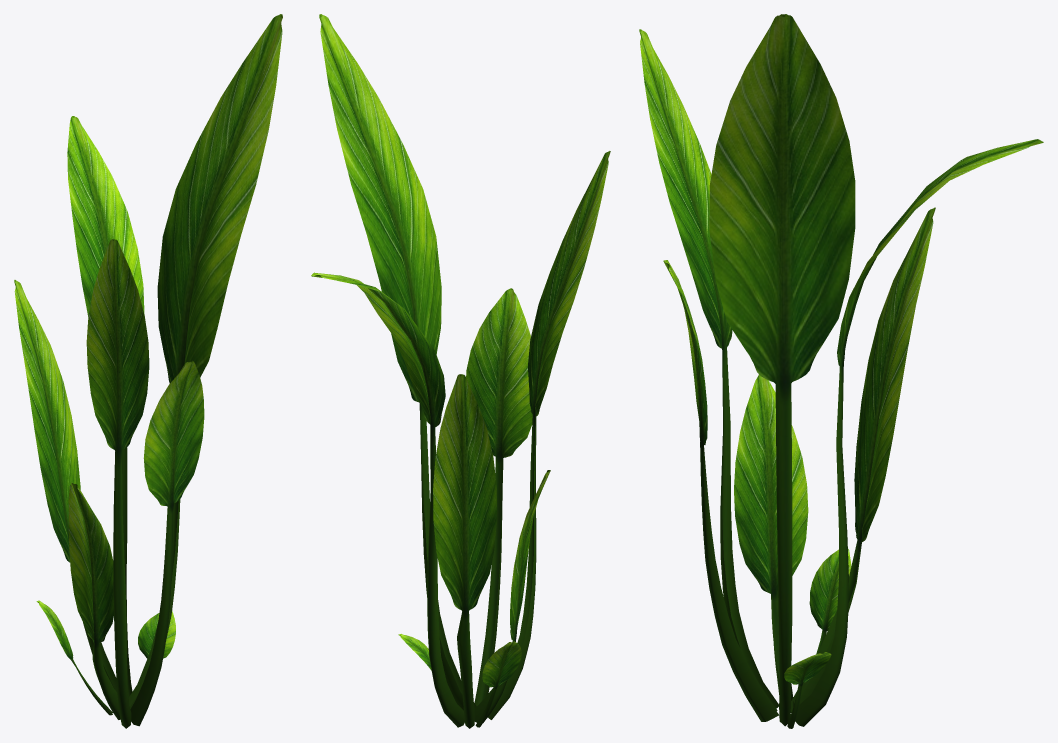
The model's file is plant_2.gltf.
3 renders of one model, left to right at view 1: azimuth 30°, elevation 25°; view 2: azimuth 150°, elevation 25°; view 3: azimuth 270°, elevation 25°, orthographic. The views are drawn at different scales.
Parts seen in each view (by area): view 1: plant_2; view 2: plant_2; view 3: plant_2.
Part boxes in pixels (left/top/right/bottom): plant_2: left=14, top=14, right=282, bottom=728; plant_2: left=311, top=14, right=610, bottom=728; plant_2: left=639, top=14, right=1043, bottom=728.
Size of the model in its own units: 4.94 by 13.61 by 6.24.
1 material, 1 textured.
